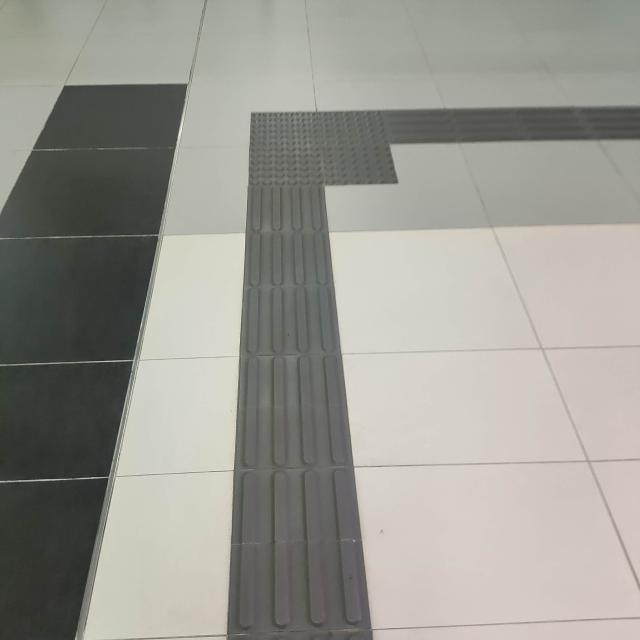kanan: (201, 63, 549, 218)
